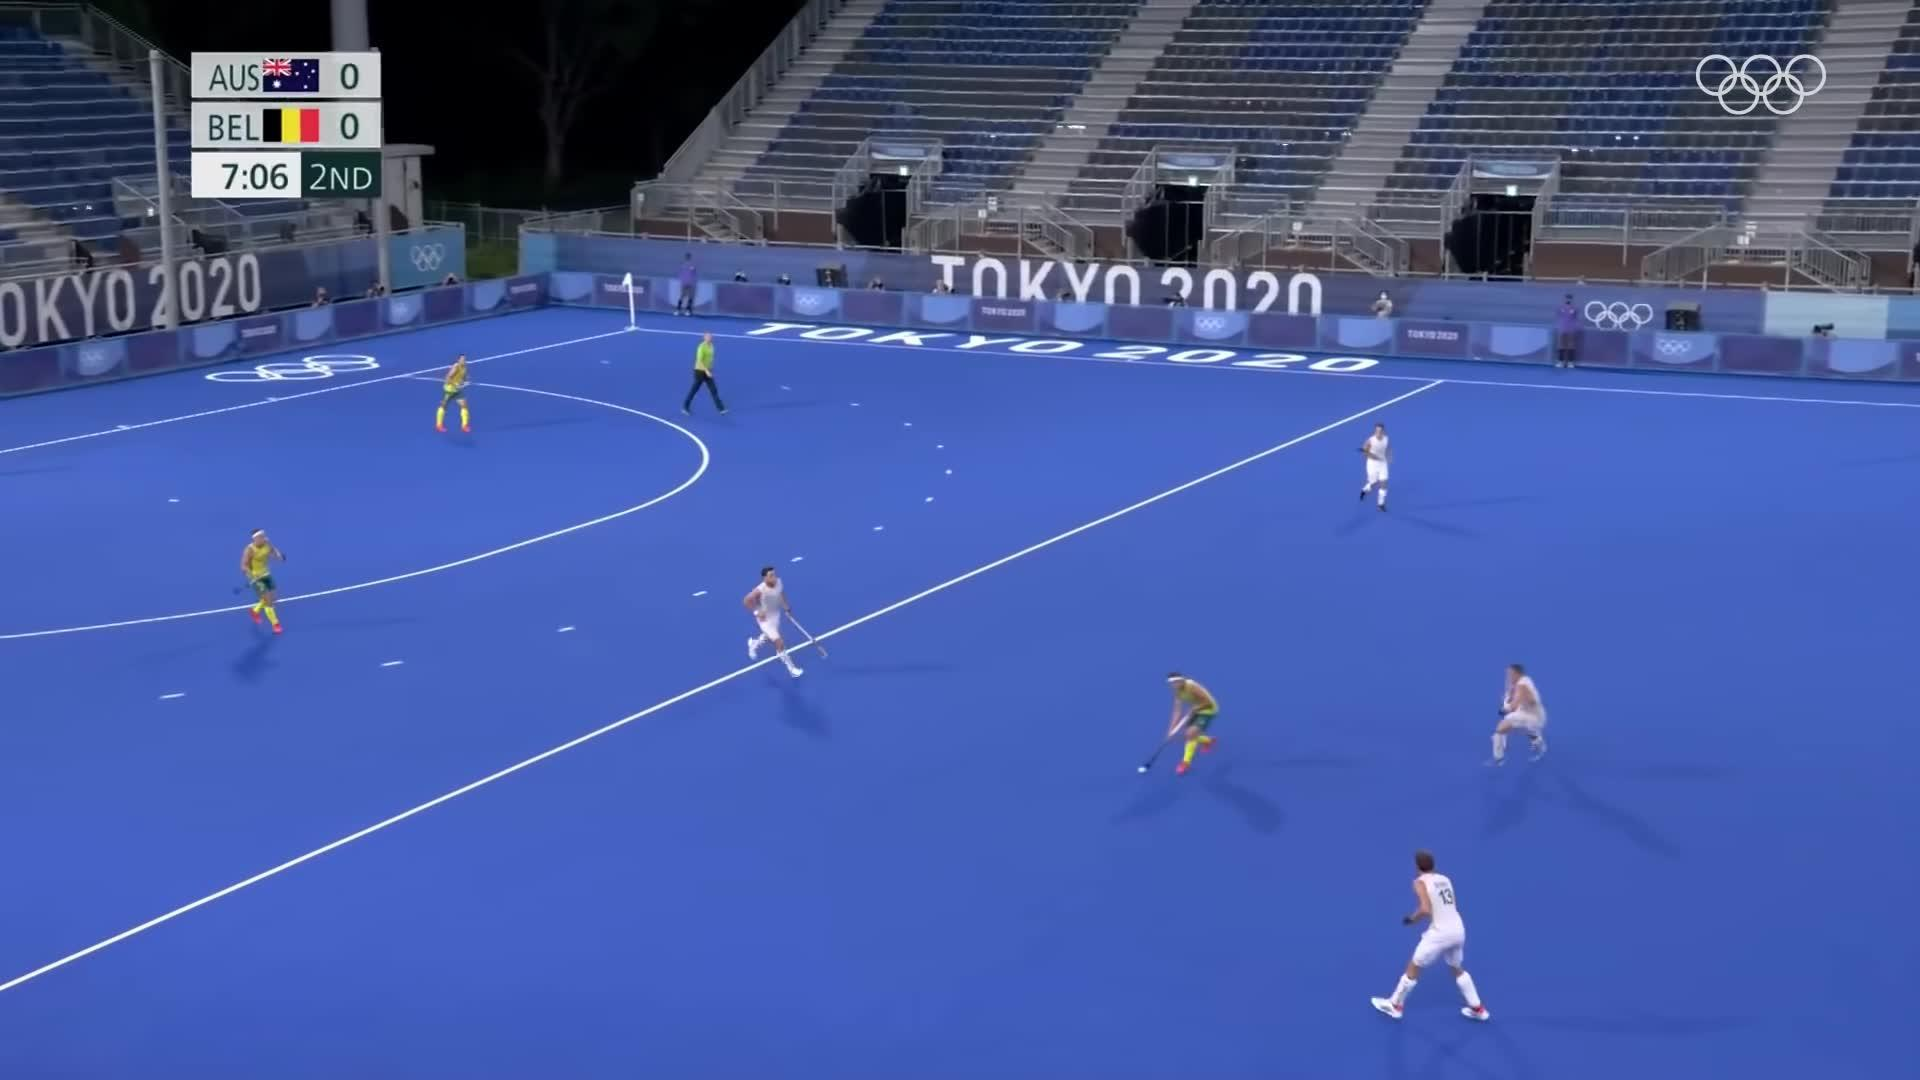ball: (1127, 761, 1159, 781)
